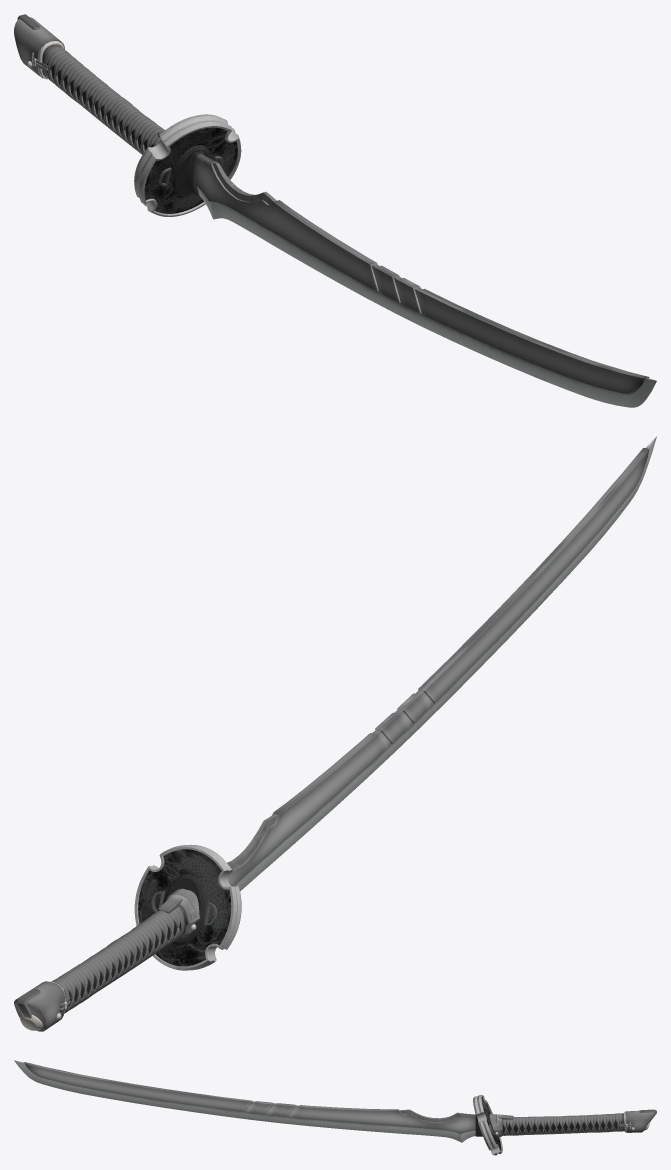
Rendered from katana_p.gltf.
The picture shows the model from 3 angles, top to bottom: view 1: azimuth 30°, elevation 25°; view 2: azimuth 150°, elevation 25°; view 3: azimuth 270°, elevation 25°; orthographic projection. The views are drawn at different scales.
Parts seen in each view (by area): view 1: Peacemaker_Sword; view 2: Peacemaker_Sword; view 3: Peacemaker_Sword.
Boxes of the visible parts, x1=… form: Peacemaker_Sword: x1=14, y1=14, x2=656, y2=407; Peacemaker_Sword: x1=14, y1=436, x2=656, y2=1031; Peacemaker_Sword: x1=14, y1=1060, x2=656, y2=1155.
Bounding box in the file's own units: 0.1352 × 0.2372 × 1.49.
2 materials, 2 textured.
